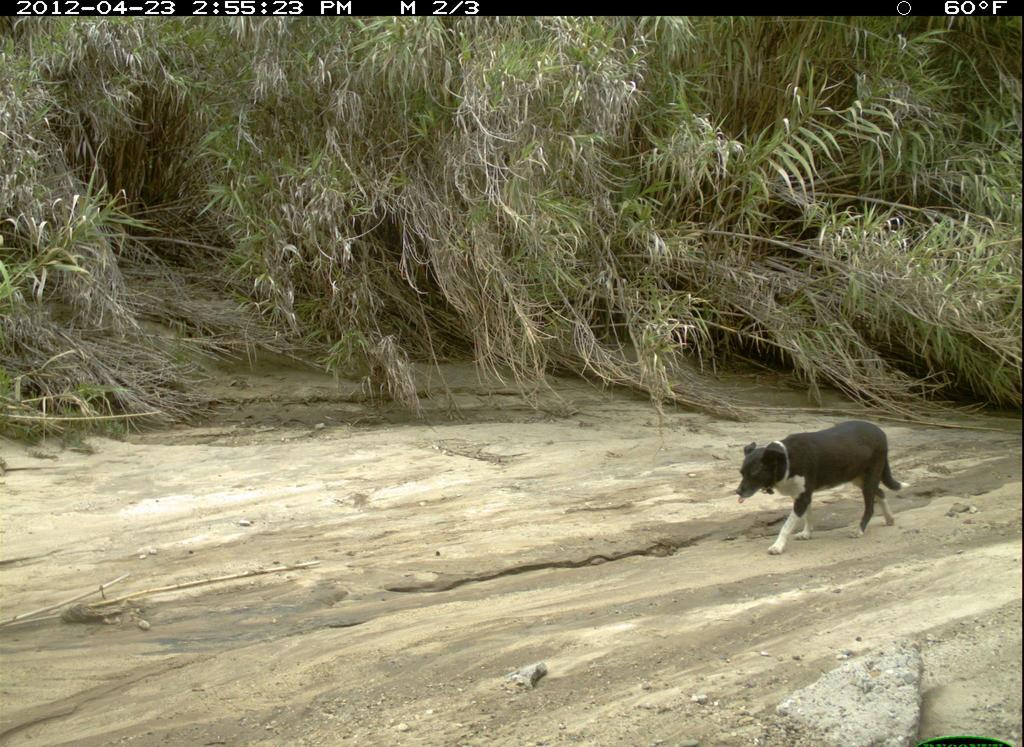dog: (726, 413, 920, 559)
